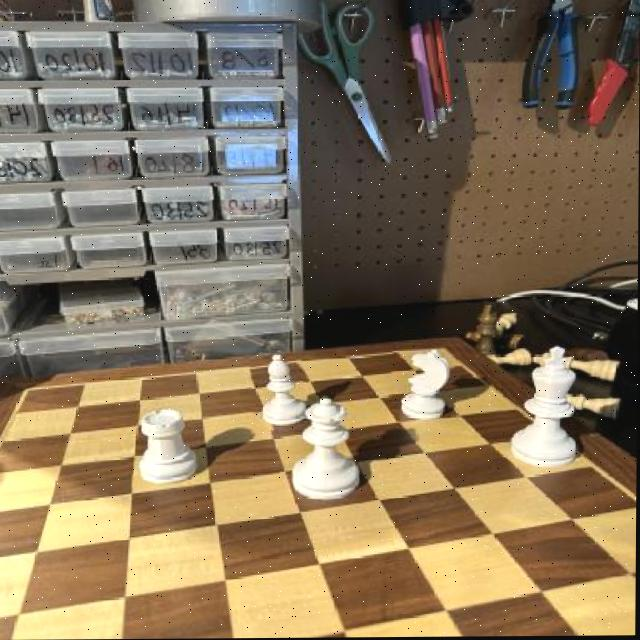black-rook: (250, 353, 307, 431)
white-bishop: (501, 340, 584, 472)
white-king: (389, 348, 455, 425)
white-pawn: (280, 396, 367, 505)
white-queen: (132, 406, 202, 490)
